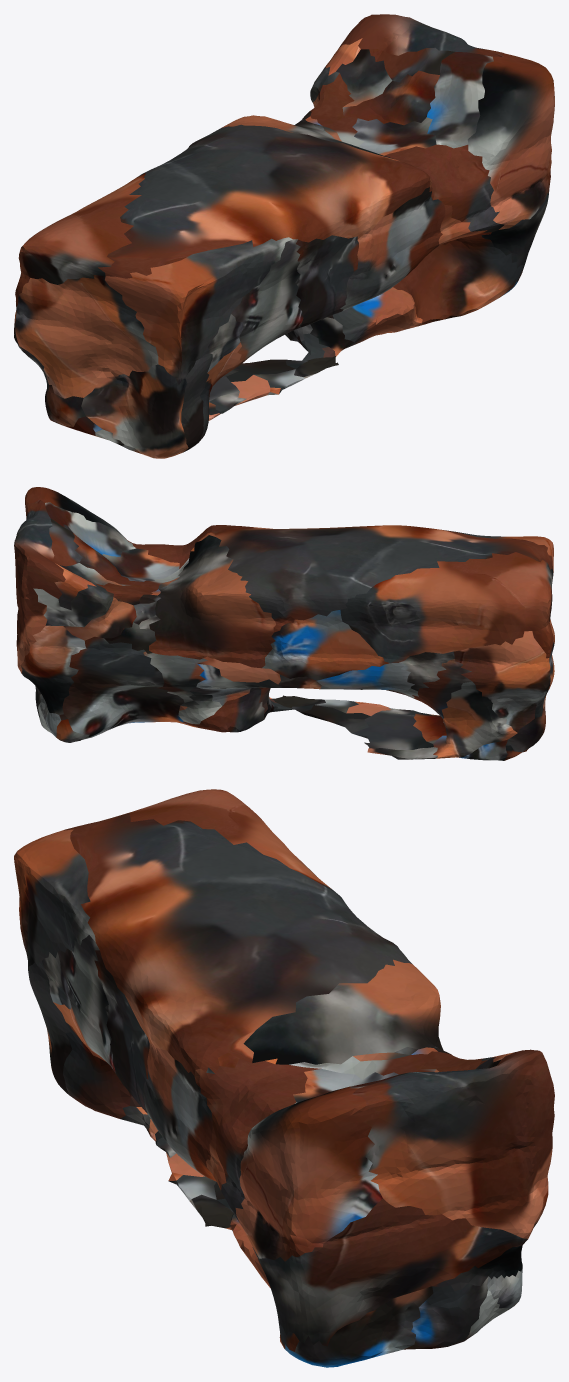
File: Bed.obj
The picture shows the model from 3 angles, top to bottom: view 1: azimuth 30°, elevation 25°; view 2: azimuth 150°, elevation 25°; view 3: azimuth 270°, elevation 25°; orthographic projection. The views are drawn at different scales.
Bounding box in the file's own units: 0.2794 × 0.1142 × 0.1812.
1 material, 1 textured.
